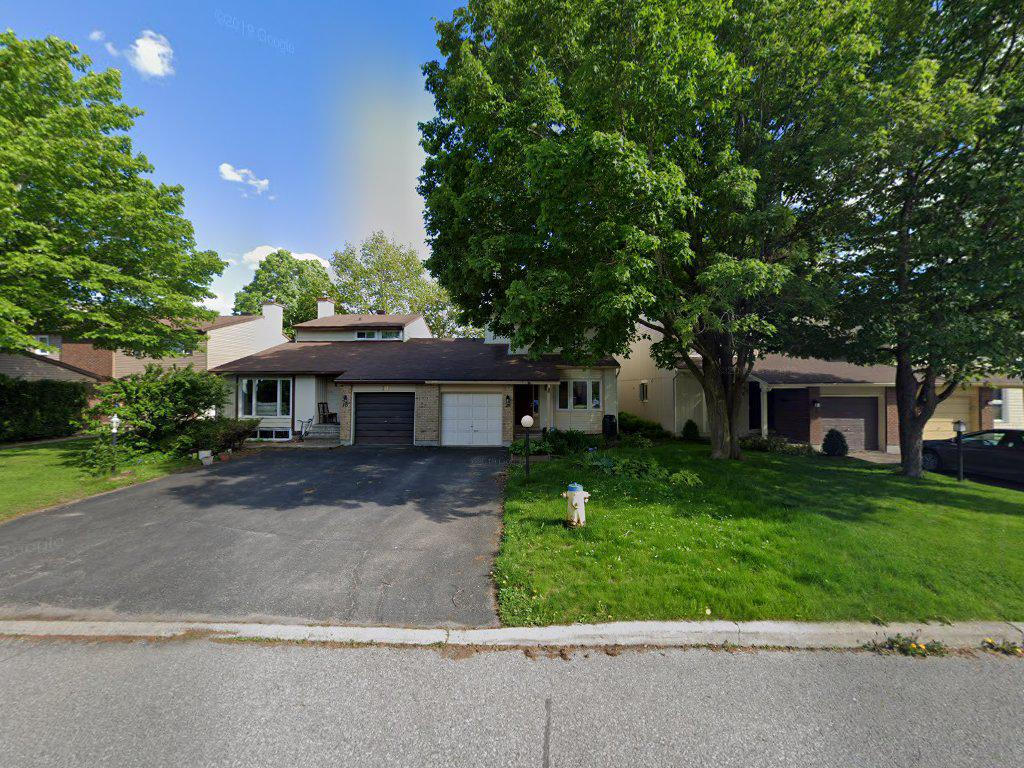trunk: (692, 347, 766, 468), (897, 357, 935, 484)
